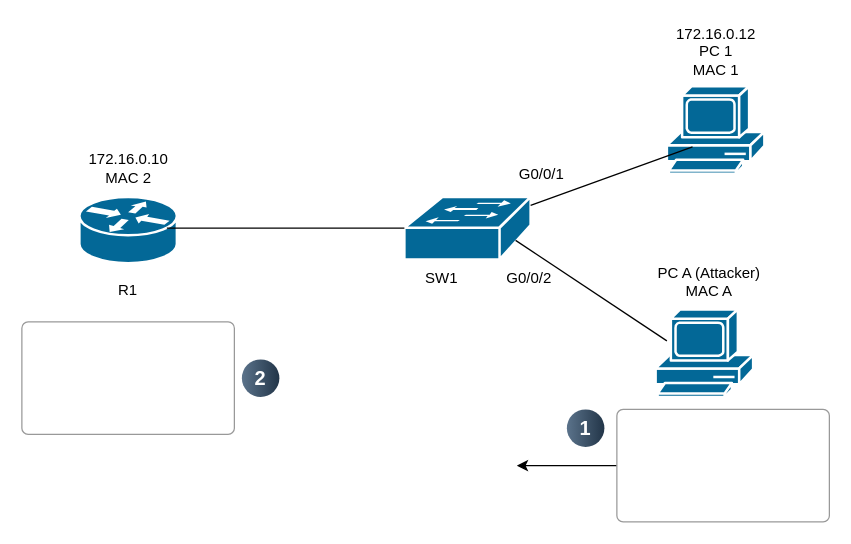
Some shapes in this 851 by 544 pixel diagram are drawn without their labels. The centre of each missing label's shape, as x and y in pixels:
ARP Reply IP: 172.16.0.12 MAC: MAC A: point (722, 465)
R1 ARP Table IP: 172.16.0.12 MAC: MAC A: point (127, 377)
